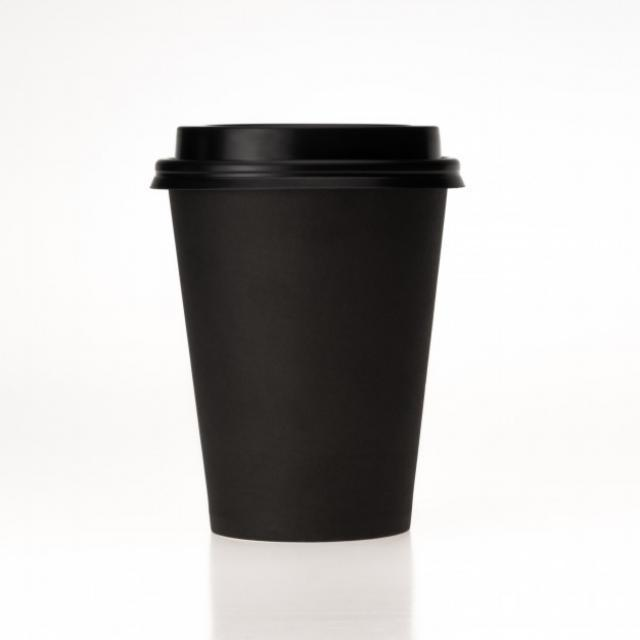Plastic: (149, 119, 463, 542)
